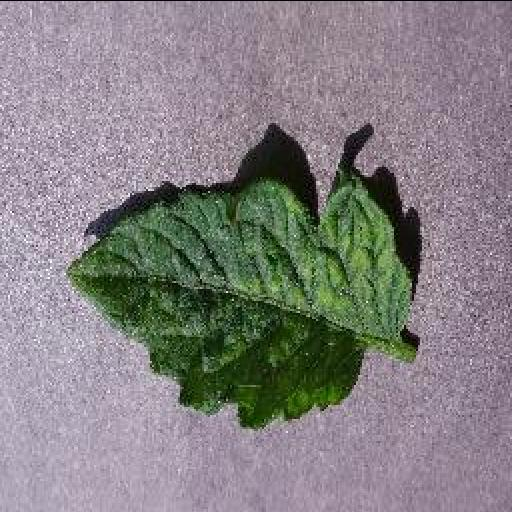Mosaic Virus: (66, 158, 416, 434)
